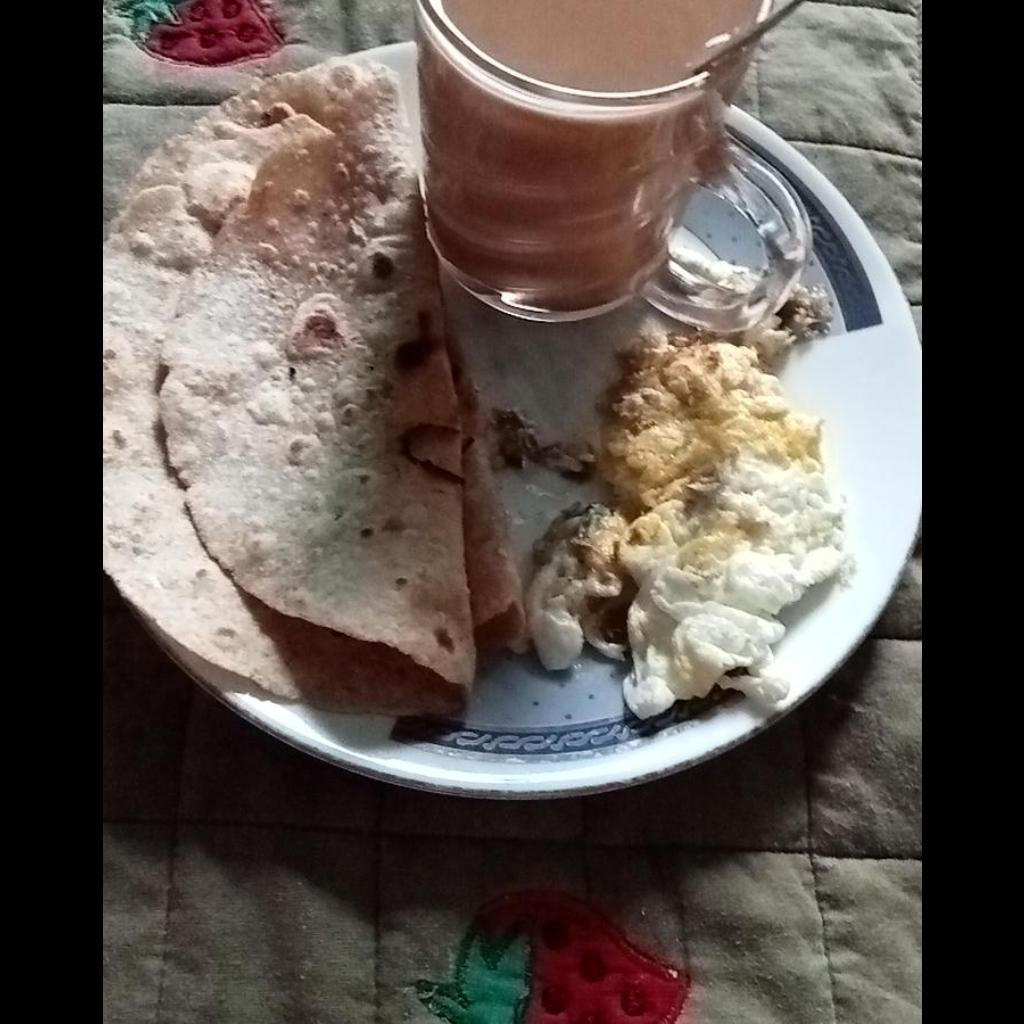cha: (448, 2, 771, 91)
egg-poached: (524, 339, 848, 724)
ruti: (103, 56, 526, 724)
